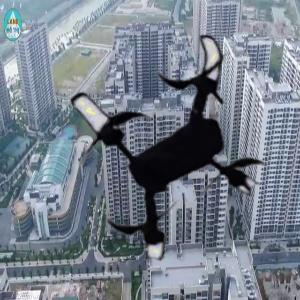drone: (45, 22, 281, 258)
